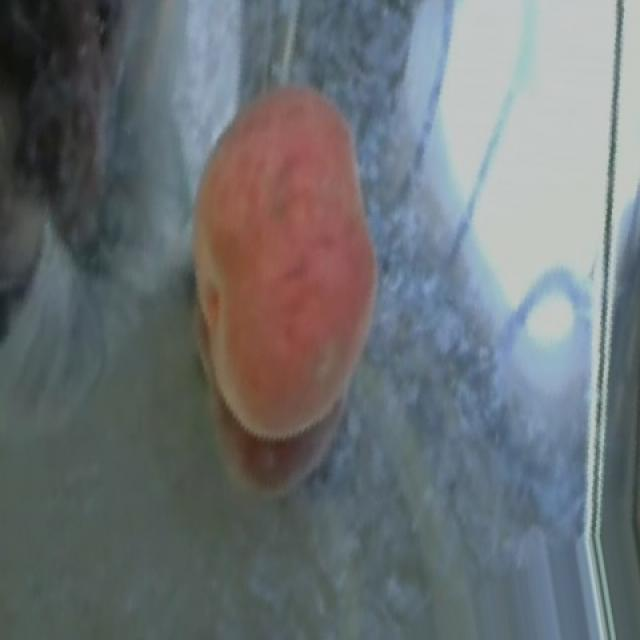Fruit: (156, 61, 393, 392)
